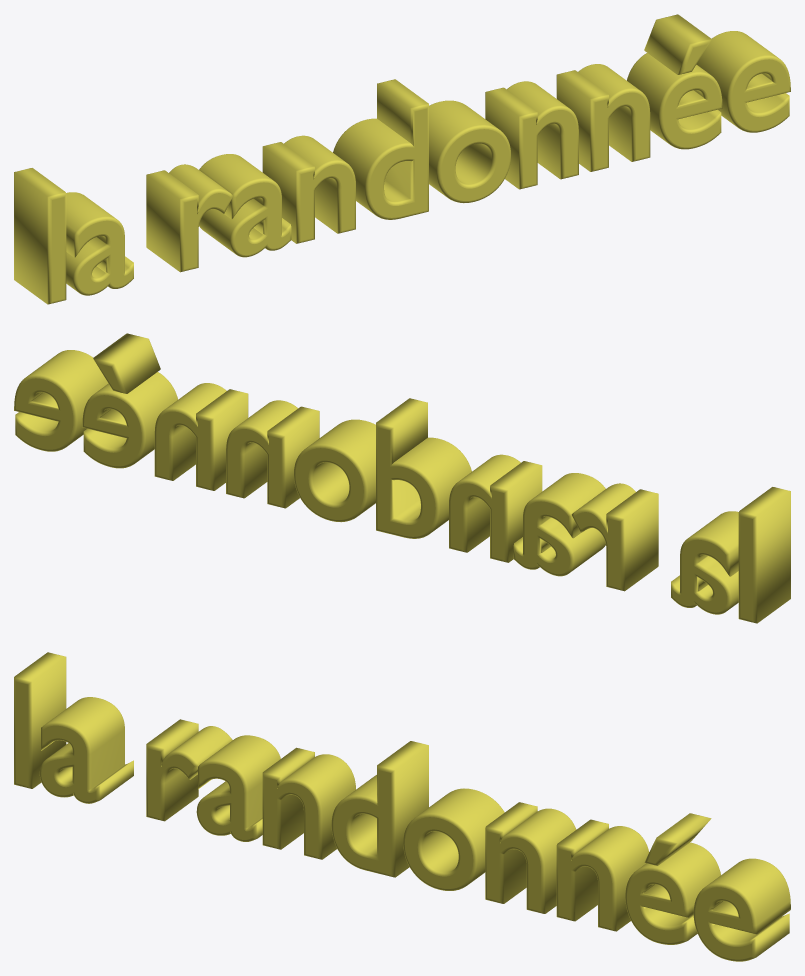
The picture shows the model from 3 angles, top to bottom: view 1: azimuth 30°, elevation 25°; view 2: azimuth 150°, elevation 25°; view 3: azimuth 330°, elevation 25°; orthographic projection.
Visible parts, largest first — view 1: Text; view 2: Text; view 3: Text.
Part boxes in pixels (box(x1,y1,x2,y2)): Text: box(14, 14, 790, 304); Text: box(14, 333, 790, 623); Text: box(14, 652, 790, 961).
Bounding box in the file's own units: 5.21 × 0.731 × 0.44.
